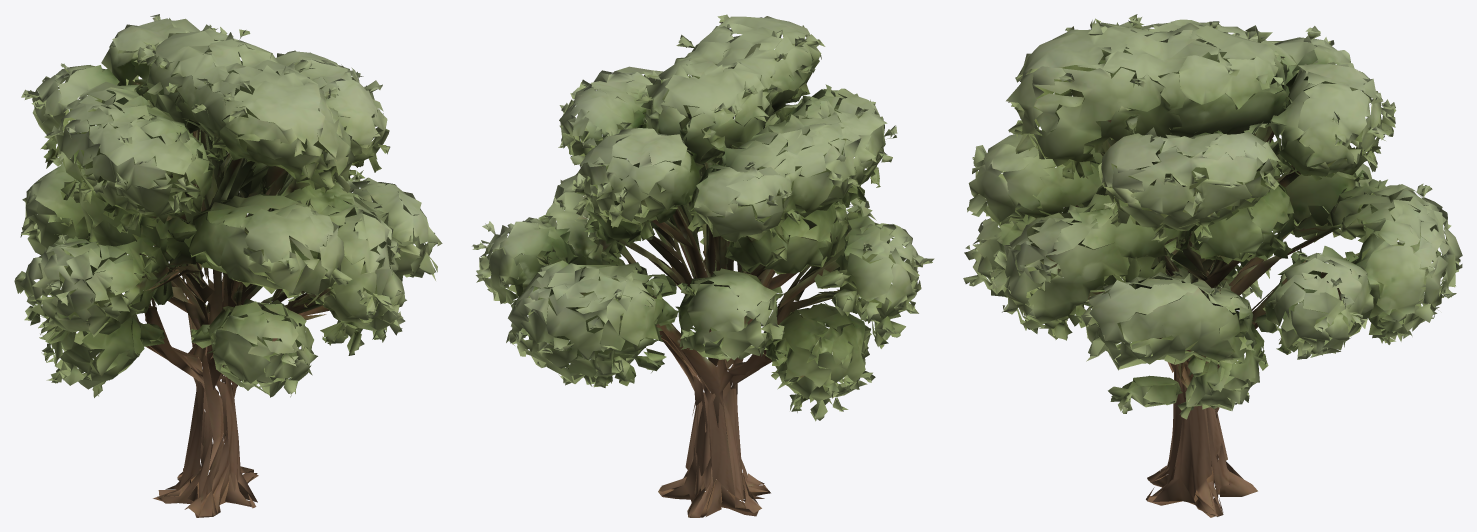
Rendered from tree-1.glb.
The picture shows the model from 3 angles, left to right: view 1: azimuth 30°, elevation 25°; view 2: azimuth 150°, elevation 25°; view 3: azimuth 270°, elevation 25°; orthographic projection. The views are drawn at different scales.
Parts seen in each view (by area): view 1: node_0; view 2: node_0; view 3: node_0.
Boxes of the visible parts, x1,y1,x2,y2 form: node_0: [14, 14, 442, 517]; node_0: [472, 14, 934, 517]; node_0: [963, 14, 1462, 517].
Bounding box in the file's own units: 0.9112 × 1.04 × 1.01.
Materials: 1 (1 with a texture image).
